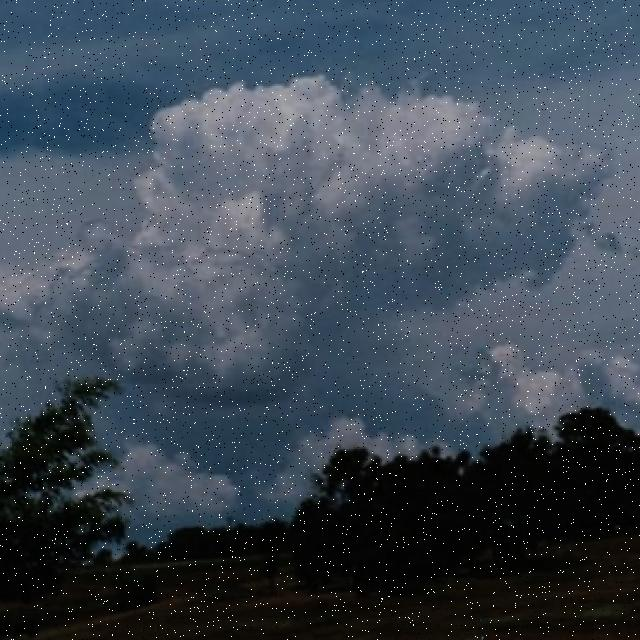Cs: (1, 41, 640, 385)
